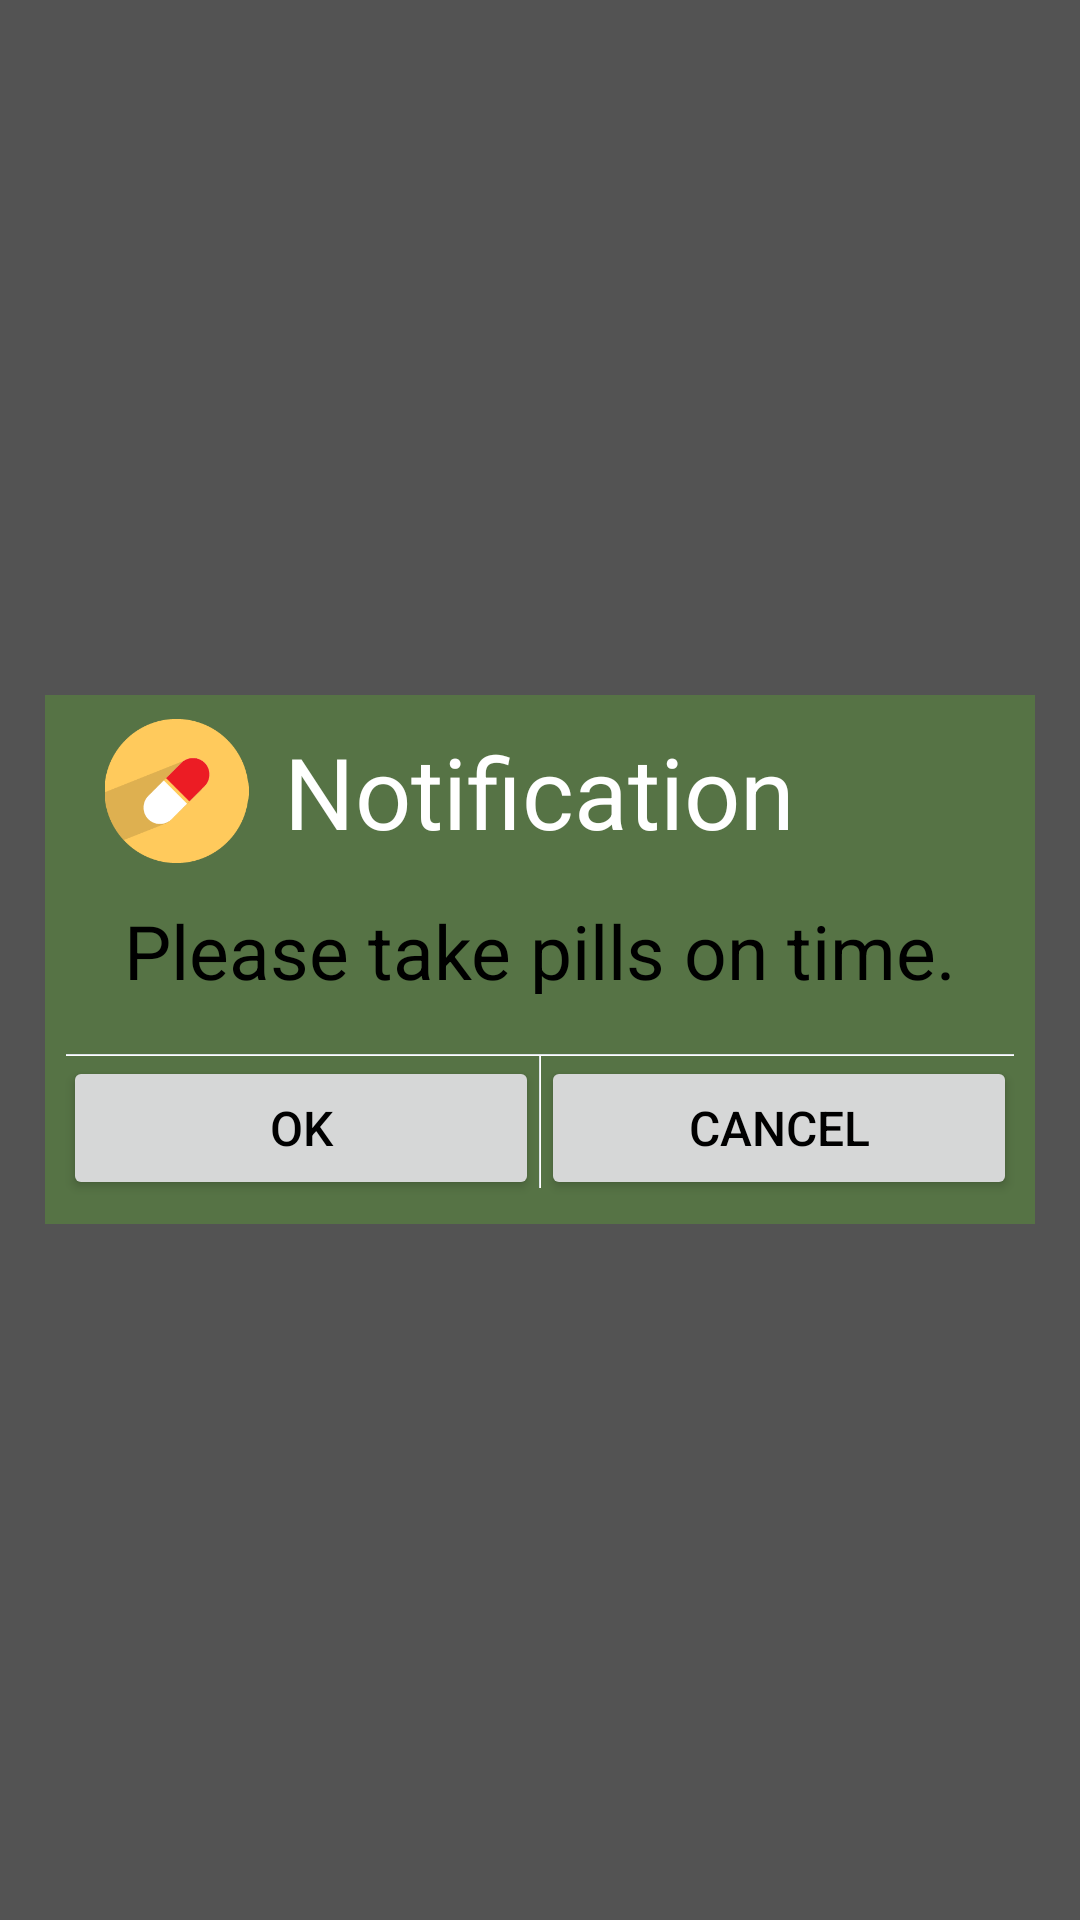

Icons on this 1080 × 1920 Android screen, each with its box as (x1, y1, x2, y2):
capsule: (105, 719, 249, 863)
